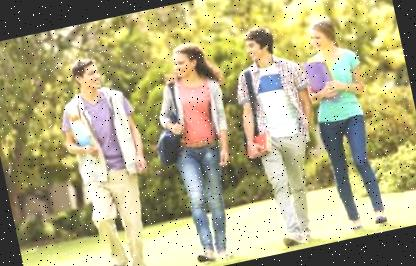person: (132, 32, 261, 266), (220, 19, 342, 256), (46, 49, 172, 266), (293, 11, 399, 239)
